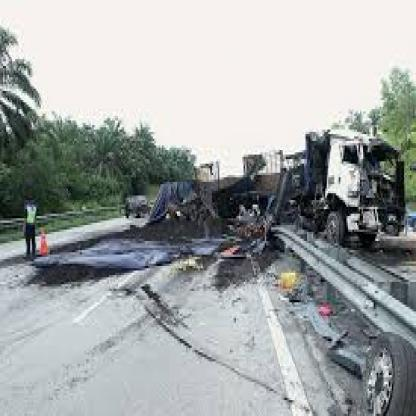accident: (149, 130, 416, 278)
